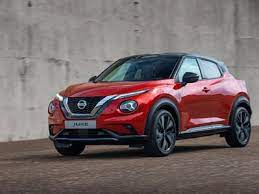Nissan: (47, 49, 251, 155)
